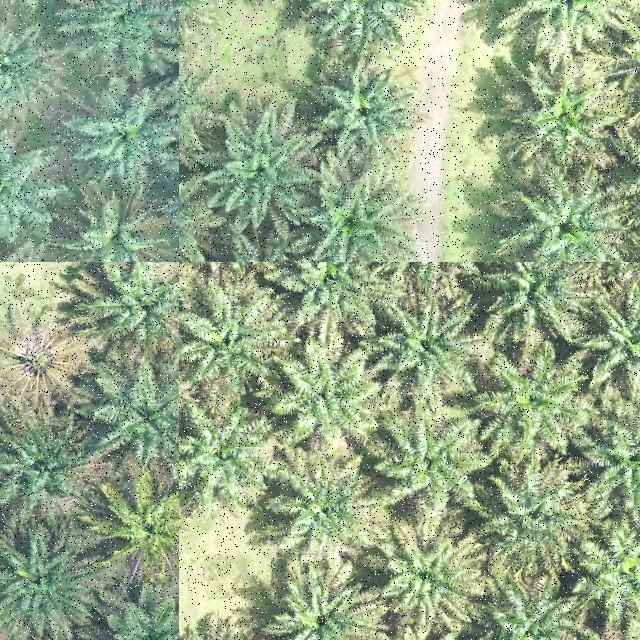Ganoderma: (108, 490, 179, 565), (0, 324, 75, 390)
